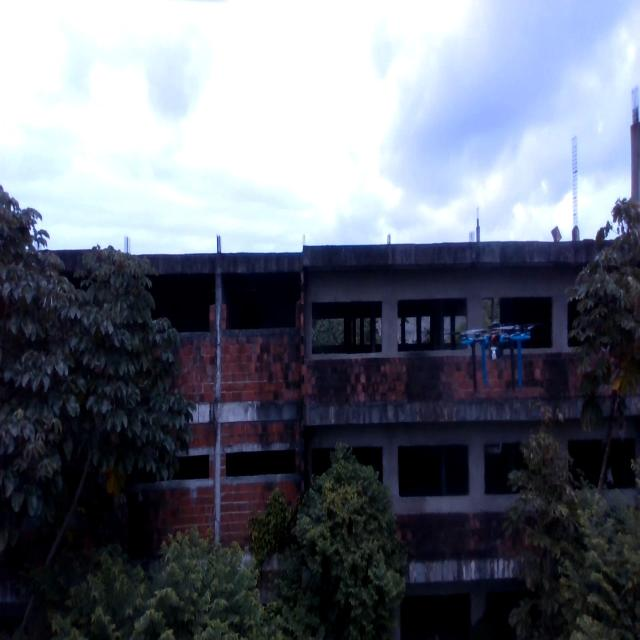-uav-: (452, 309, 532, 402)
